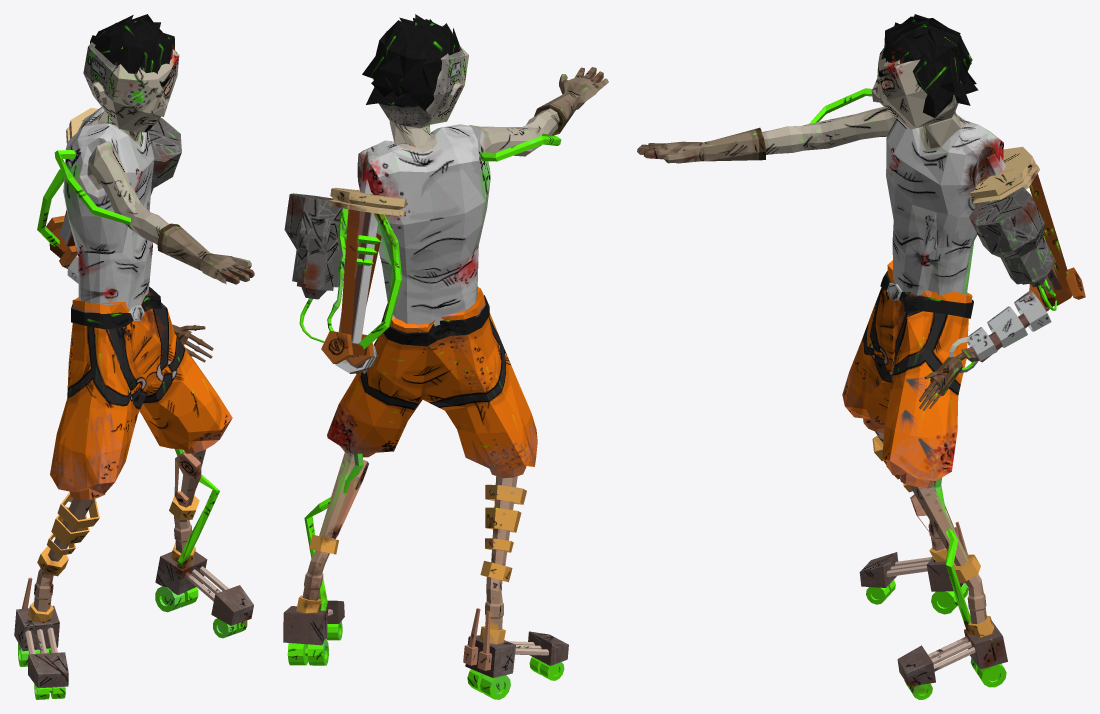
Rendered from CyborgFINALAnimation_000012.obj.
3 renders of one model, left to right at view 1: azimuth 30°, elevation 25°; view 2: azimuth 150°, elevation 25°; view 3: azimuth 270°, elevation 25°, orthographic. The views are drawn at different scales.
Parts seen in each view (by area): view 1: CyborgMesh_Cube.002; view 2: CyborgMesh_Cube.002; view 3: CyborgMesh_Cube.002.
Boxes of the visible parts, x1,y1,x2,y2 form: CyborgMesh_Cube.002: (14,14,254,699); CyborgMesh_Cube.002: (283,14,608,699); CyborgMesh_Cube.002: (637,14,1085,699).
Size of the model in its own units: 3.64 by 9.48 by 6.11.
